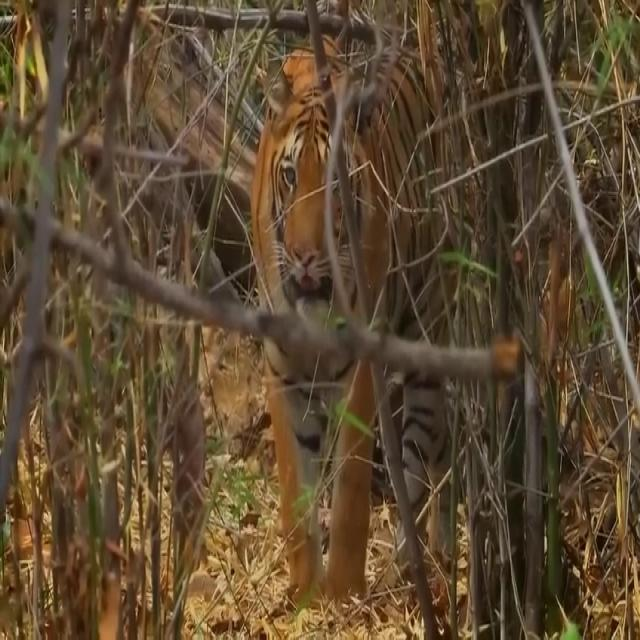tiger: (249, 32, 459, 628)
